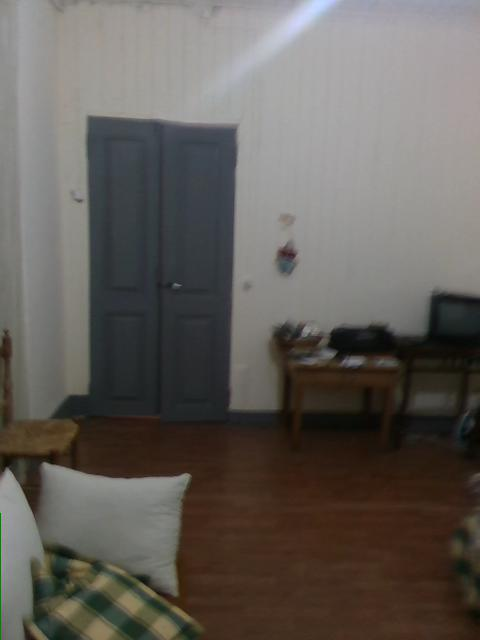door: (84, 111, 242, 422)
